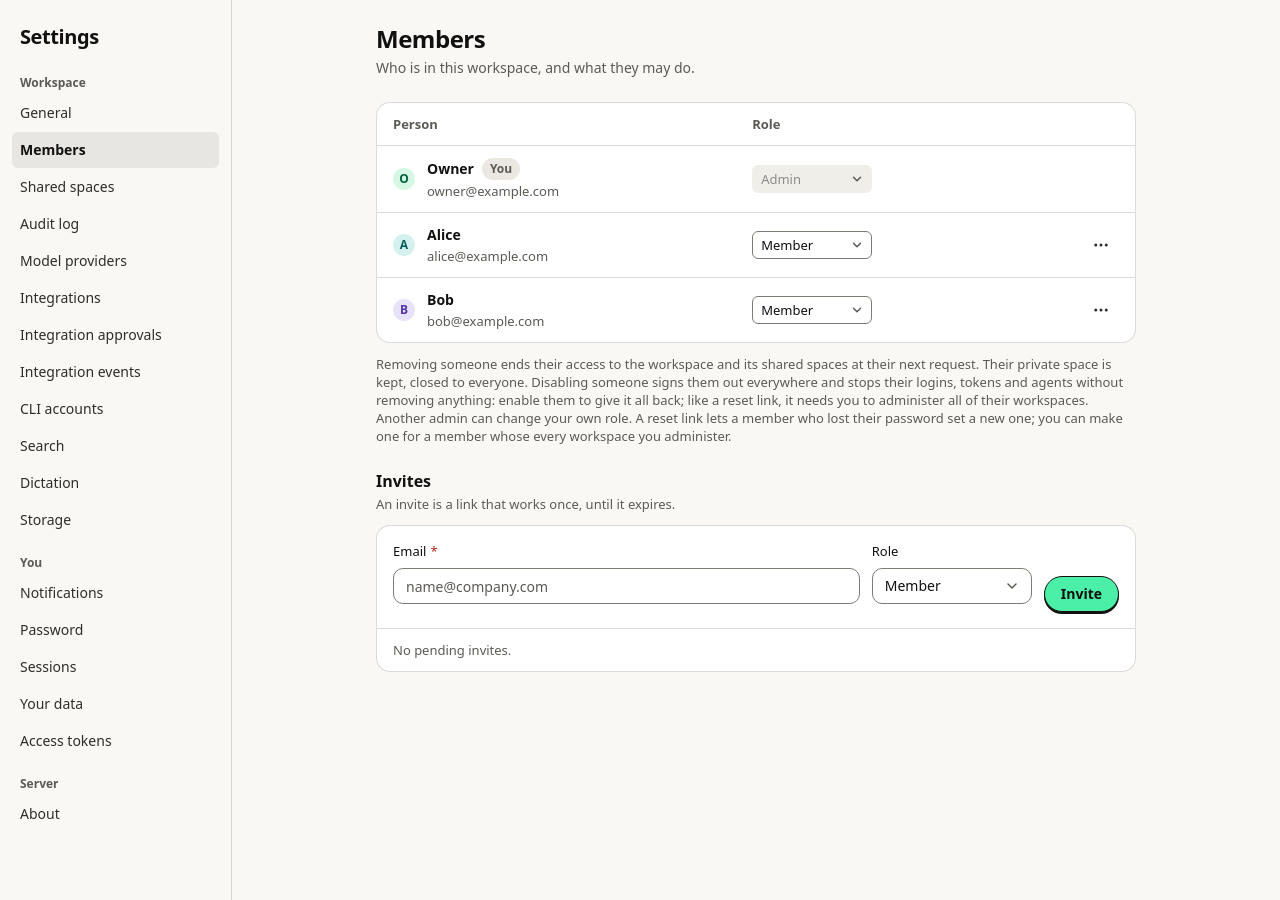
it: admins make a password reset link for a member, shown once, never for themselves
Expected: the text "alice@example.com" is shown, [427,247,548,265]
Click the button named "More actions for Alice".
click(1101, 245)  # box [1083,227,1119,263]
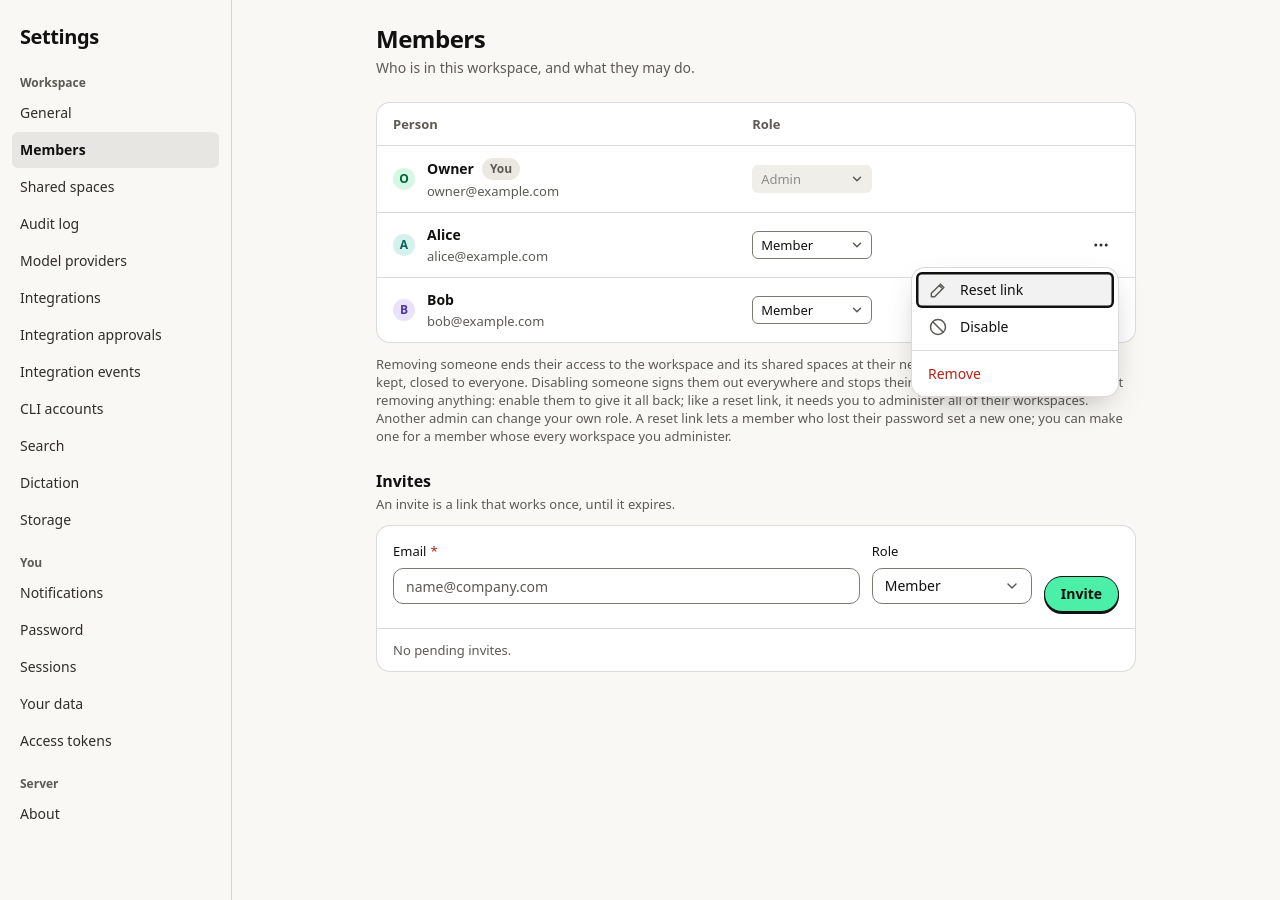
Click the menu item "Reset link".
click(1015, 290)  # box [916,272,1114,308]
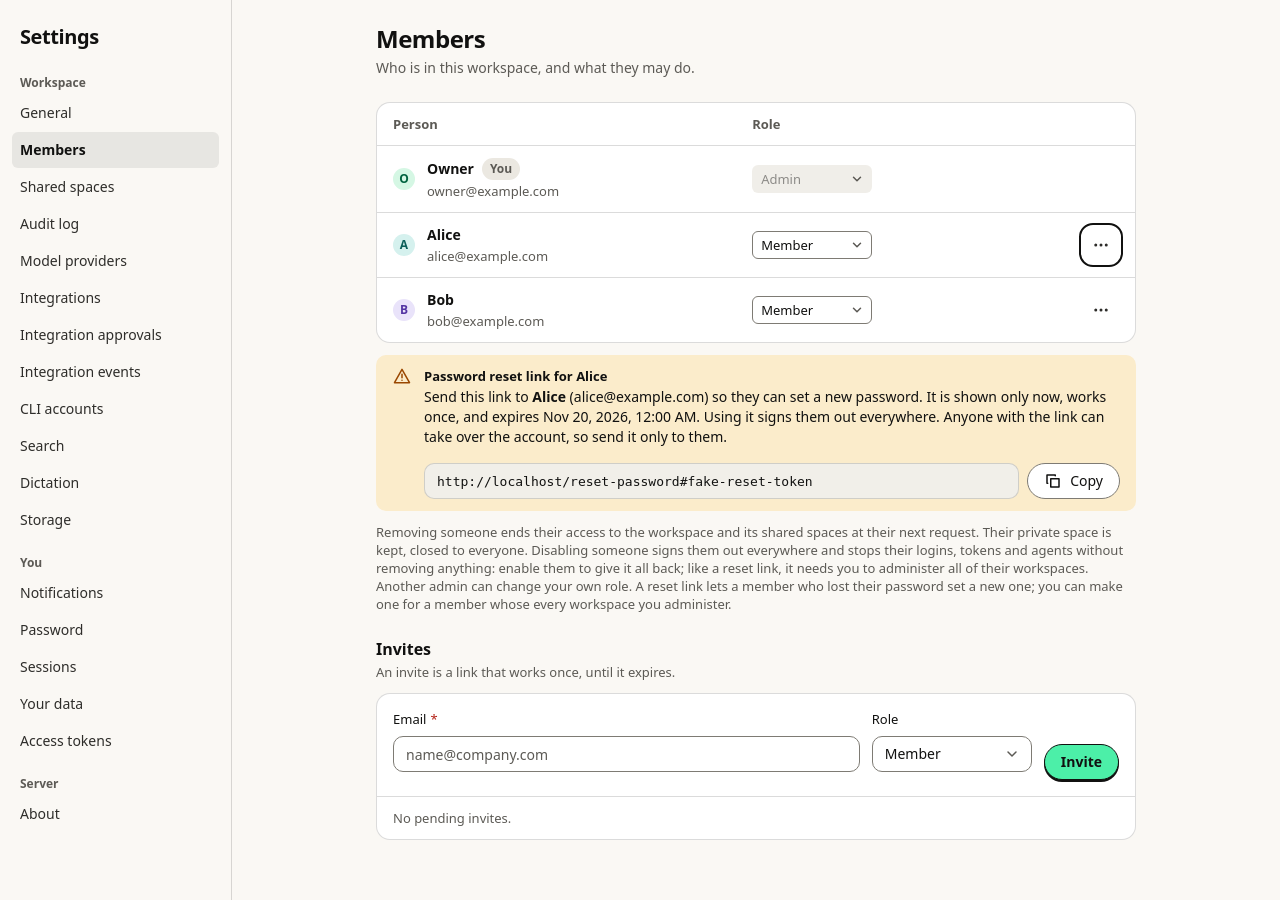
Expected: the message shows "alice@example.com", [574,387,704,406]
